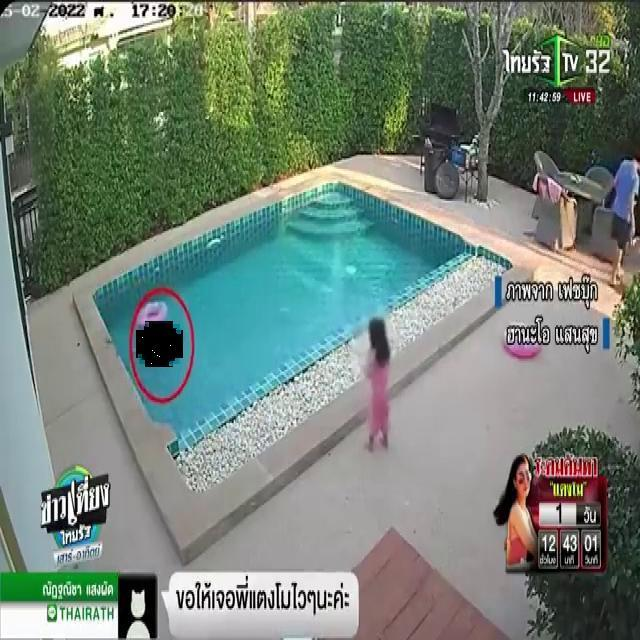Out of Water: (139, 324, 180, 364)
